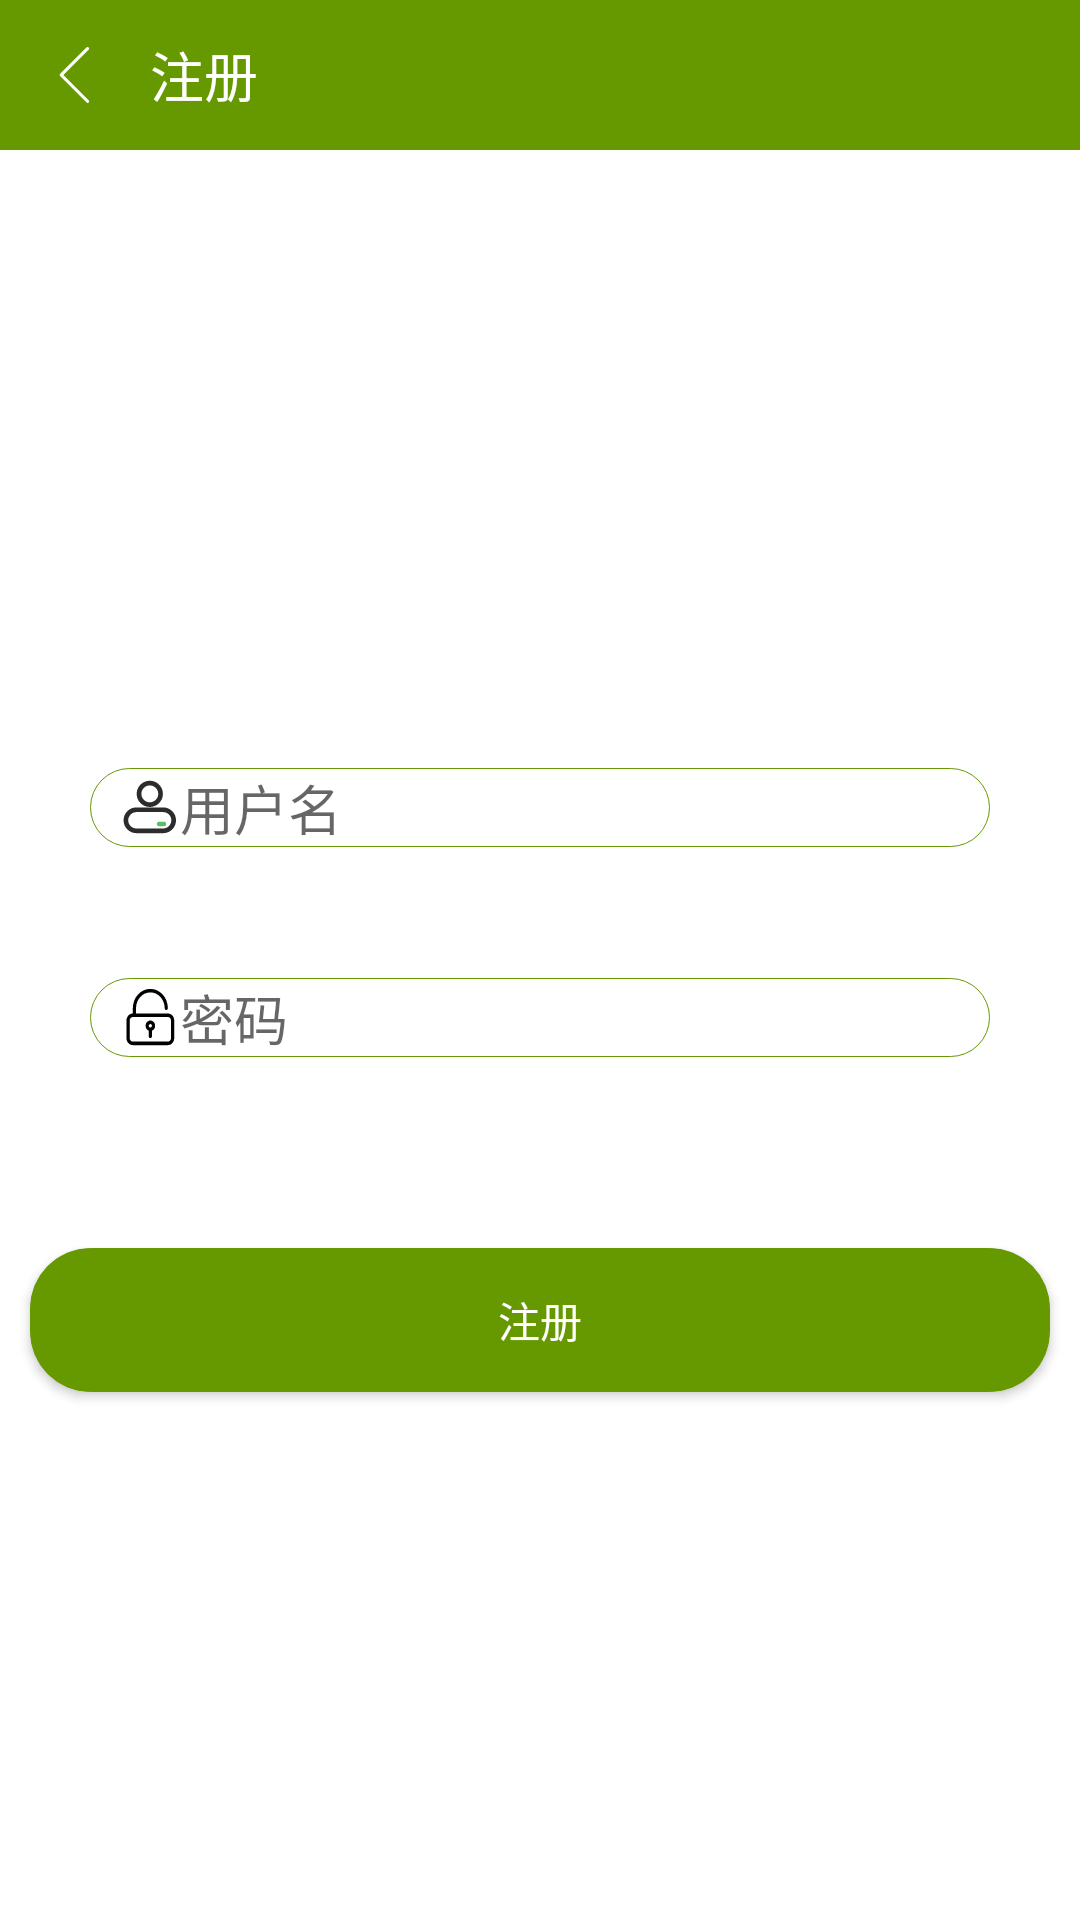

Named icons in this screenshot (1080×1920) and their centers, [x,y]:
back: [74,75]
